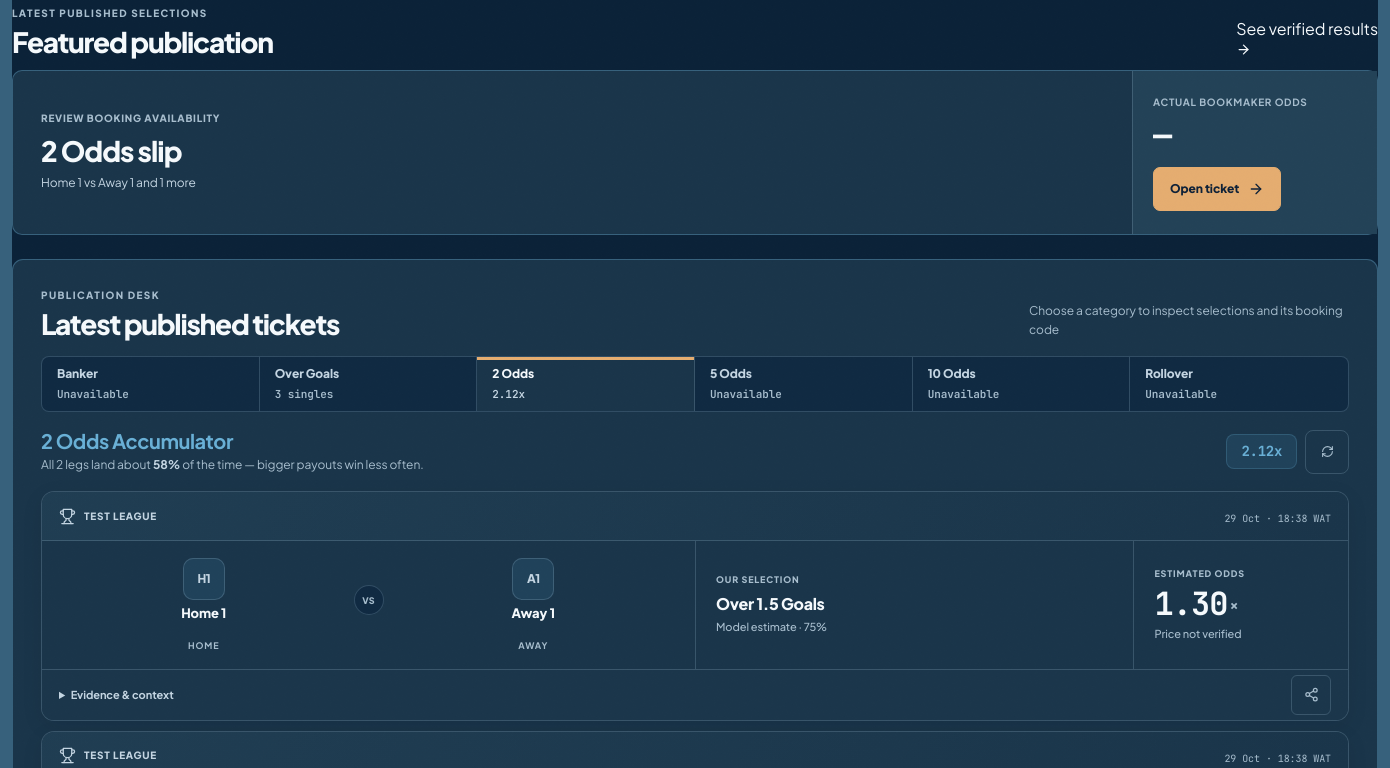
Scenario: homepage presents automated Over Goals as singles, not a multiplied slip
The image size is (1390, 768).
(page scrolled)
Click the button "Over Goals 3 singles" at coordinates (369, 384), box [260, 357, 477, 411]
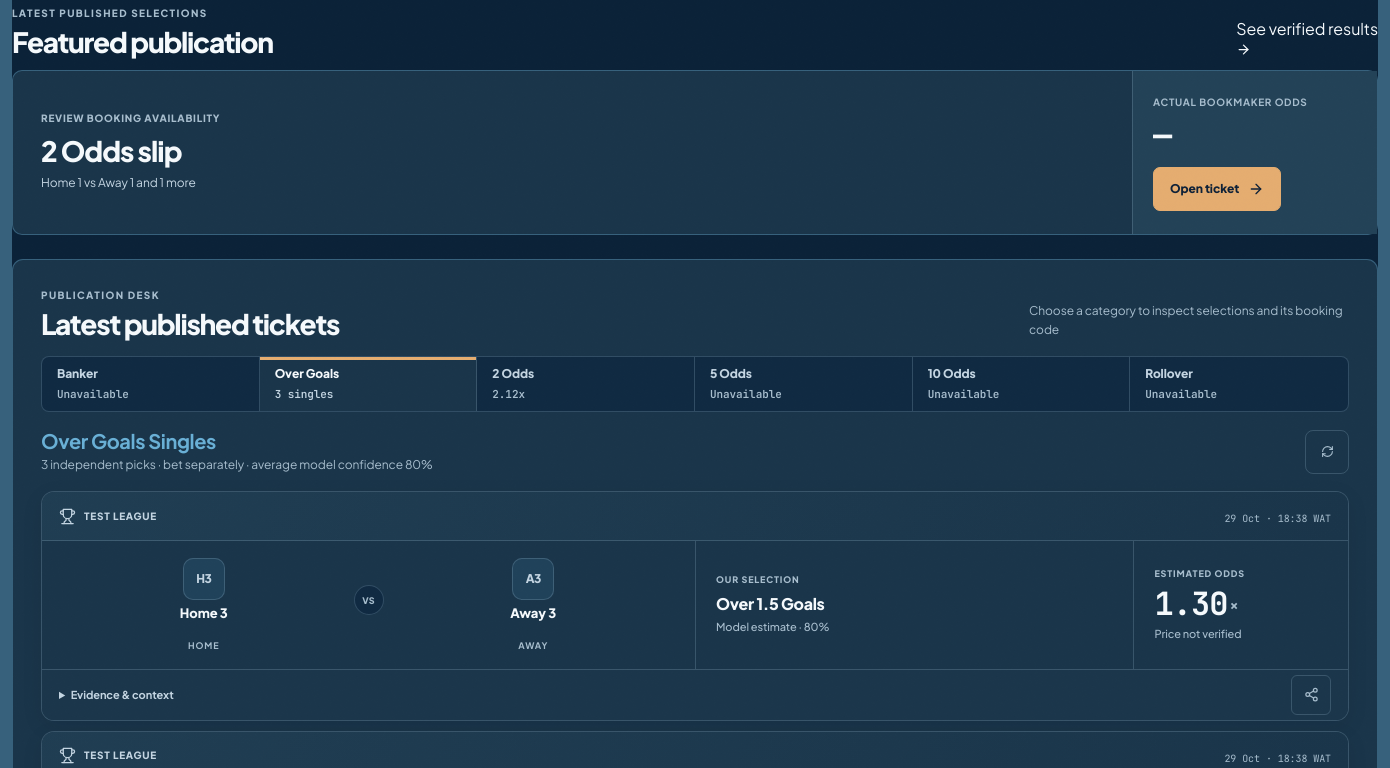
Expected: the heading "Over Goals Singles" is shown, [41, 428, 216, 453]
Expected: the text "3 independent picks · bet separately" is shown, [41, 455, 433, 474]
